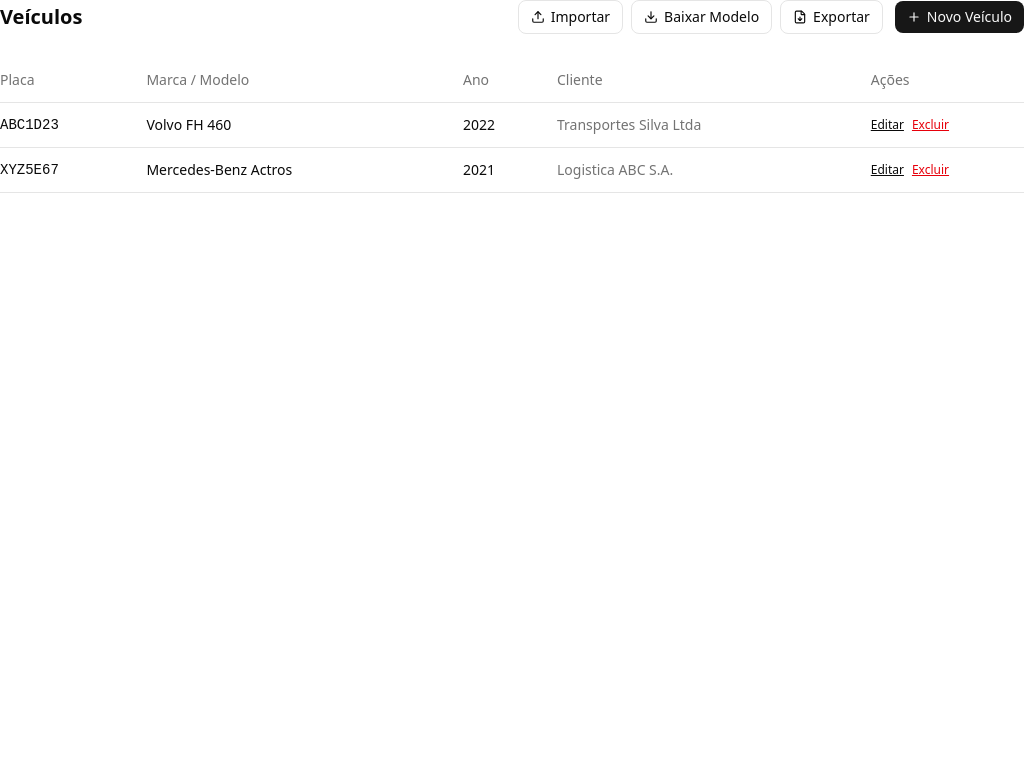
Test: VehiclesPage › botão "Exportar" abre o modal de exportação
This screenshot has width=1024, height=768.
Click the button "Exportar": (832,17) [780, 0, 883, 34]
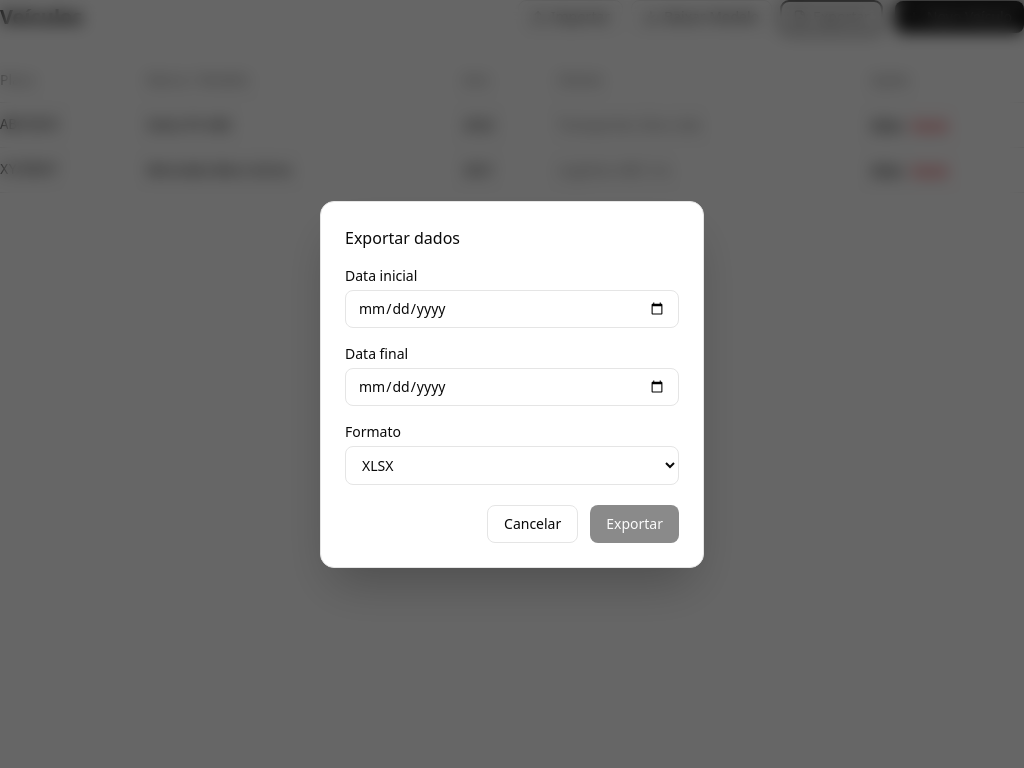
Check: the dialog is shown
